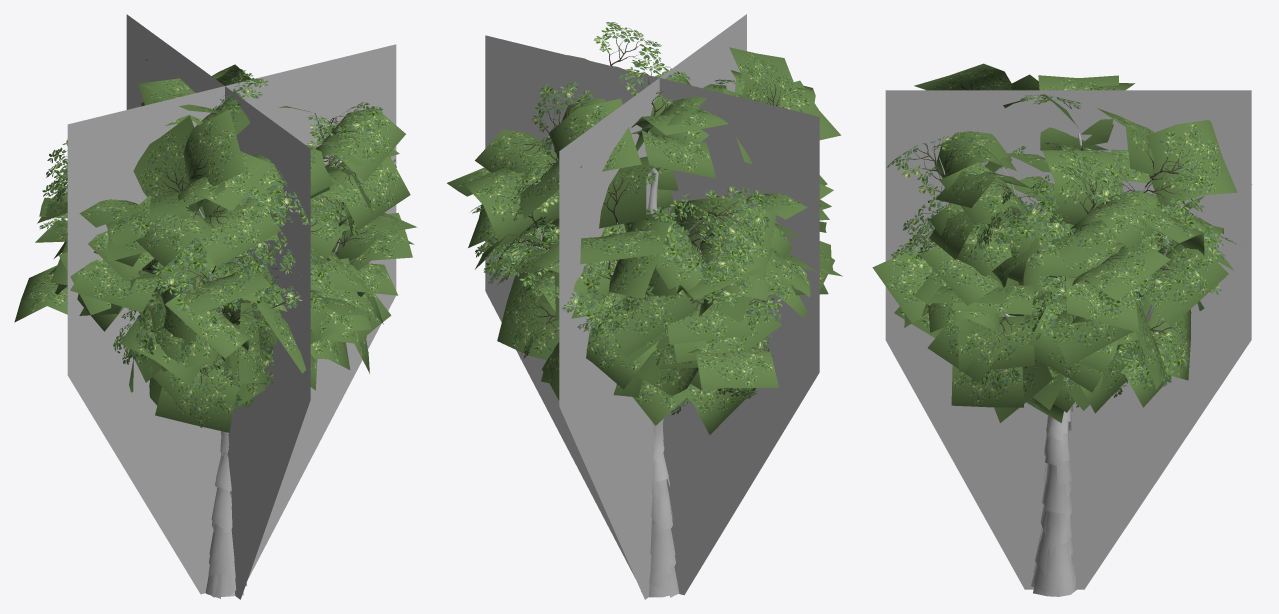
The model's file is Mangrove5_big.fbx.
3 renders of one model, left to right at view 1: azimuth 30°, elevation 25°; view 2: azimuth 150°, elevation 25°; view 3: azimuth 270°, elevation 25°, orthographic. The views are drawn at different scales.
Parts seen in each view (by area): view 1: LOD0, Billboard; view 2: LOD0, Billboard; view 3: LOD0, Billboard.
Boxes of the visible parts, x1,y1,x2,y2 form: LOD0: (14, 59, 417, 598); Billboard: (67, 14, 396, 599); LOD0: (447, 22, 842, 597); Billboard: (485, 14, 819, 599); LOD0: (872, 63, 1251, 596); Billboard: (885, 90, 1251, 589).
Size of what is drawn, in the model's own units: 693 by 991 by 690.
